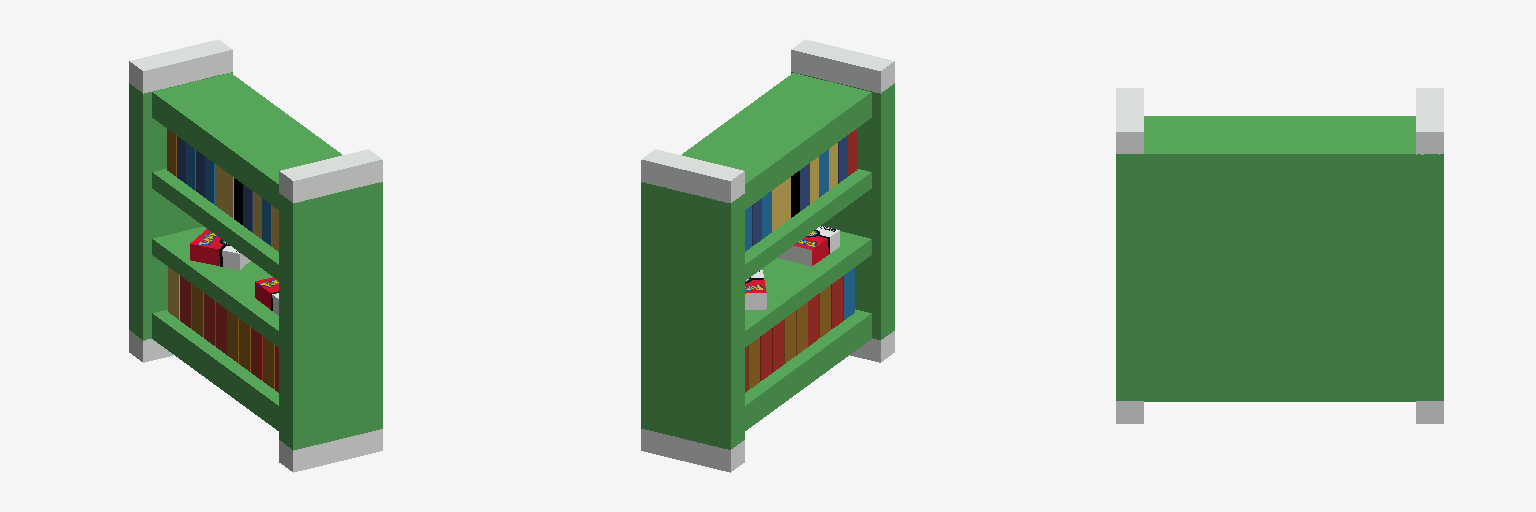
3 views of the same model, side by side, from view 1: azimuth 30°, elevation 25°; view 2: azimuth 150°, elevation 25°; view 3: azimuth 270°, elevation 25° (orthographic).
Parts seen in each view (by area): view 1: polySurface41; view 2: polySurface41; view 3: polySurface41.
Boxes of the visible parts, box(x1,y1,x2,y2) form: polySurface41: box(129, 39, 382, 472); polySurface41: box(641, 39, 894, 472); polySurface41: box(1116, 88, 1443, 423).
Size of the model in its own units: 1.46 by 4.55 by 4.65.
9 materials, 8 textured.